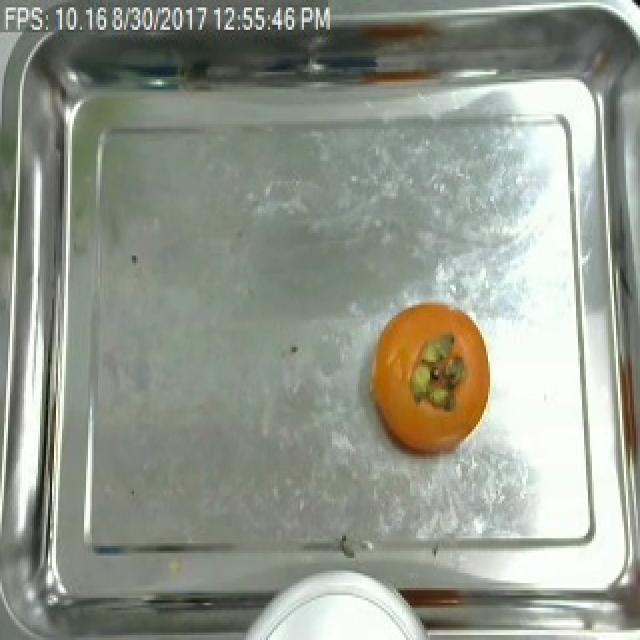Fruit: (366, 293, 496, 456)
